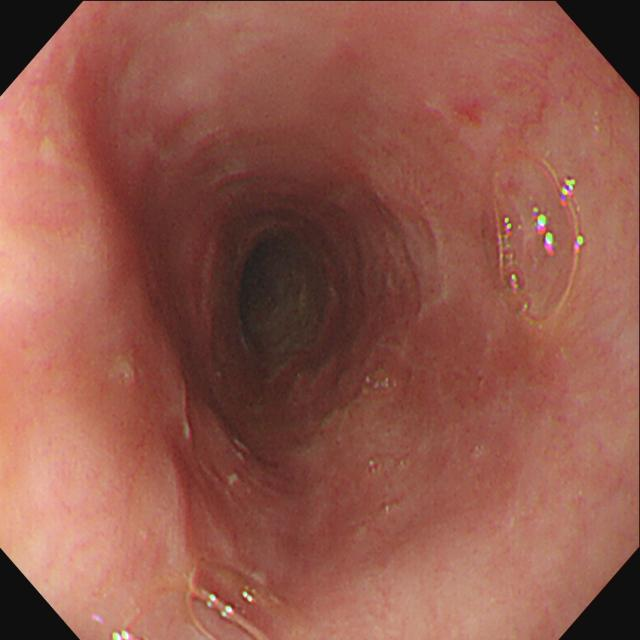E: (236, 223, 326, 359)
T: (490, 148, 585, 328), (183, 560, 298, 640)
